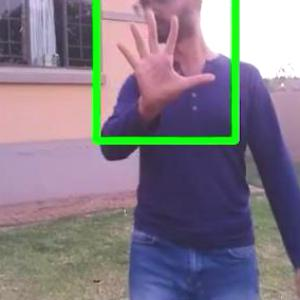follow_hand: (112, 3, 217, 112)
